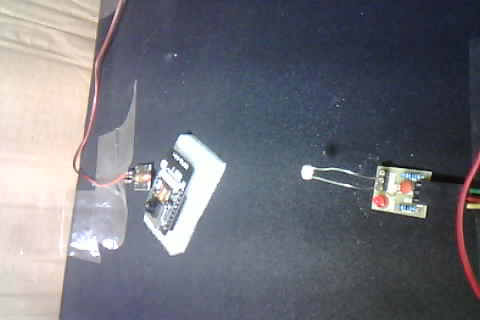esp32: (144, 136, 217, 245)
